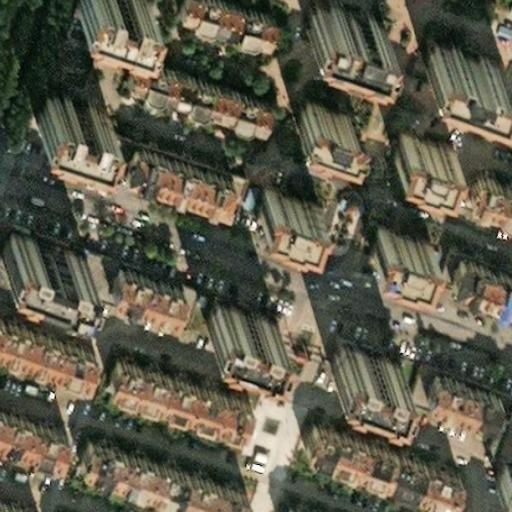building: (0, 243, 189, 318), (68, 429, 234, 511), (107, 42, 259, 130), (297, 410, 455, 492), (93, 344, 240, 421), (84, 122, 233, 197), (107, 132, 220, 200), (409, 32, 496, 93), (16, 90, 96, 148), (317, 333, 393, 388), (435, 243, 512, 296), (97, 256, 175, 307), (414, 362, 489, 415), (189, 296, 264, 348), (163, 0, 263, 36), (355, 215, 423, 265), (376, 124, 444, 173), (244, 174, 309, 223), (281, 88, 346, 137), (0, 396, 60, 448), (458, 168, 512, 218), (272, 493, 338, 512), (488, 399, 512, 440), (485, 451, 512, 486)
